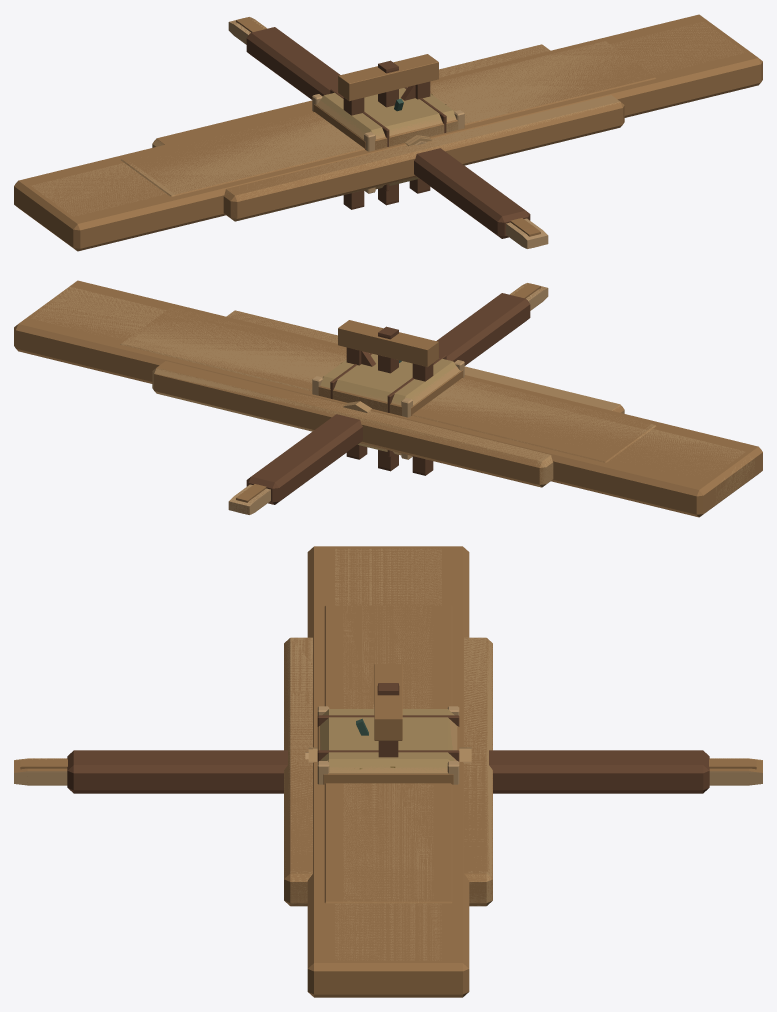
The model's file is parts.glb.
The picture shows the model from 3 angles, top to bottom: view 1: azimuth 30°, elevation 25°; view 2: azimuth 150°, elevation 25°; view 3: azimuth 270°, elevation 25°; orthographic projection. The views are drawn at different scales.
Visible parts, largest first — view 1: Part038, Part031, Part039, Part010, Part030, Part029, Part043, Part009, Part042, Part018, Part046, Part021 (+17 smaller); view 2: Part038, Part039, Part029, Part033, Part031, Part043, Part010, Part009, Part030, Part011, Part042, Part046 (+24 smaller); view 3: Part038, Part029, Part039, Part009, Part000, Part011, Part034, Part046, Part018, Part042, Part030, Part036 (+14 smaller).
Part boxes in pixels (bbox=[...]): Part038: bbox=[14, 14, 762, 251]; Part031: bbox=[121, 41, 645, 196]; Part039: bbox=[24, 15, 756, 249]; Part010: bbox=[223, 44, 624, 219]; Part030: bbox=[126, 42, 615, 195]; Part029: bbox=[121, 41, 656, 196]; Part043: bbox=[22, 20, 749, 240]; Part009: bbox=[246, 27, 530, 238]; Part042: bbox=[32, 22, 743, 216]; Part018: bbox=[226, 44, 620, 221]; Part046: bbox=[317, 87, 455, 190]; Part021: bbox=[223, 102, 624, 221]; Part038: bbox=[14, 280, 762, 517]; Part039: bbox=[19, 281, 753, 514]; Part029: bbox=[122, 307, 655, 462]; Part033: bbox=[133, 313, 643, 442]; Part031: bbox=[120, 308, 655, 461]; Part043: bbox=[27, 287, 749, 509]; Part010: bbox=[154, 312, 551, 484]; Part009: bbox=[246, 293, 530, 504]; Part030: bbox=[125, 313, 650, 460]; Part011: bbox=[231, 312, 537, 484]; Part042: bbox=[31, 287, 744, 471]; Part046: bbox=[320, 353, 459, 456]; Part038: bbox=[307, 546, 469, 997]; Part029: bbox=[324, 605, 452, 903]; Part039: bbox=[307, 548, 469, 965]; Part009: bbox=[67, 750, 709, 793]; Part000: bbox=[172, 750, 604, 793]; Part011: bbox=[288, 640, 488, 871]; Part034: bbox=[343, 605, 433, 903]; Part046: bbox=[317, 709, 459, 773]; Part018: bbox=[286, 637, 486, 867]; Part042: bbox=[335, 548, 441, 960]; Part030: bbox=[324, 620, 451, 899]; Part036: bbox=[343, 605, 432, 902].
Size of the model in its own units: 7 by 1.32 by 5.25.
